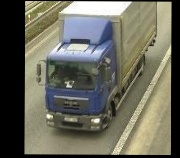truck: (36, 1, 158, 133)
